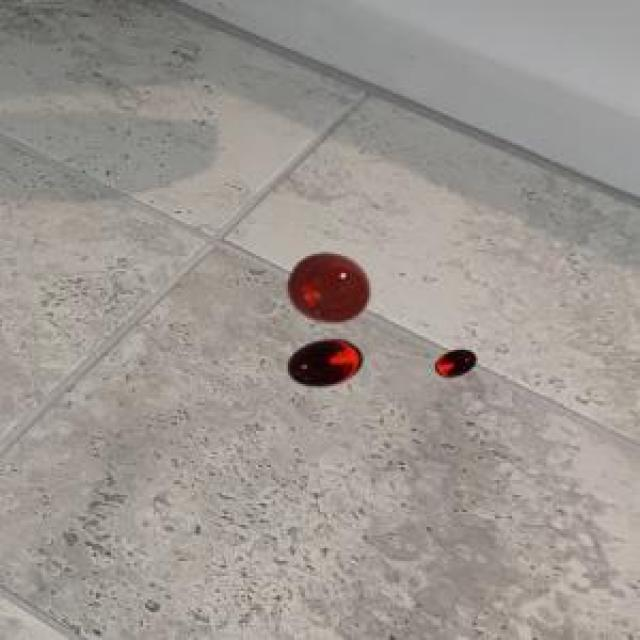Medicol: (277, 243, 378, 328), (281, 333, 368, 399), (426, 334, 484, 394)
